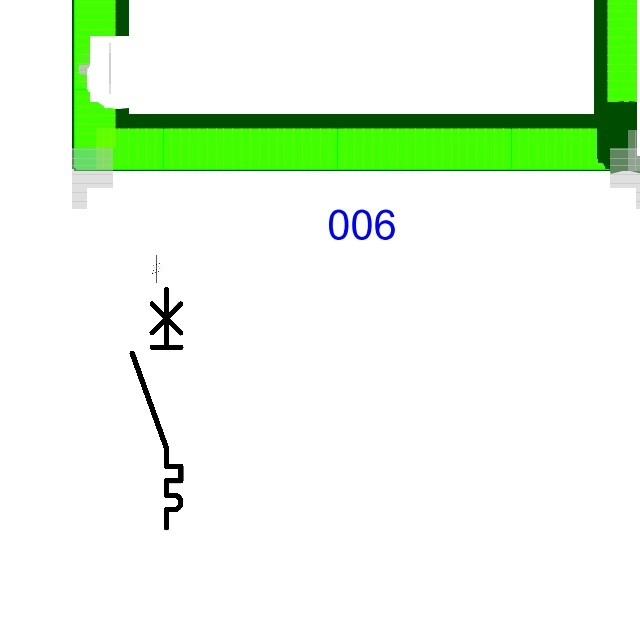interruptor_termomagnetico: (126, 283, 187, 534)
